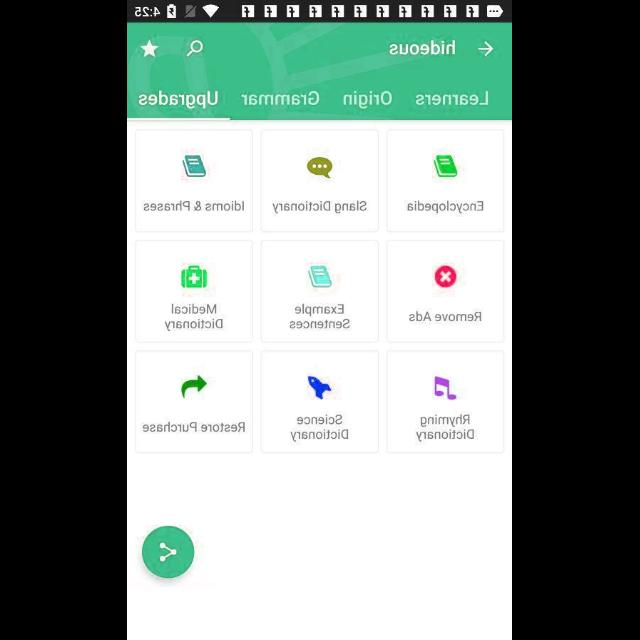button: (142, 525, 195, 579)
icon: (182, 375, 208, 399), (307, 157, 333, 179), (435, 266, 457, 288), (142, 40, 160, 59), (186, 40, 204, 58), (478, 42, 496, 58)
image: (432, 152, 461, 182), (182, 265, 208, 289), (308, 376, 332, 400), (435, 376, 457, 400), (308, 266, 332, 288), (183, 156, 207, 178)
panel: (133, 350, 253, 456), (384, 239, 506, 343), (260, 350, 380, 454), (386, 350, 506, 454), (135, 239, 255, 343), (260, 239, 380, 343), (135, 129, 255, 233), (260, 129, 380, 233), (386, 129, 506, 233)
text: (408, 191, 484, 223), (164, 302, 223, 332), (291, 414, 349, 442), (417, 414, 475, 442), (138, 90, 218, 110), (290, 304, 350, 330), (242, 90, 321, 106), (144, 200, 246, 212), (273, 200, 367, 213), (390, 40, 456, 56), (144, 422, 246, 432), (416, 92, 488, 106), (343, 90, 392, 110), (410, 312, 482, 322)
uppertaskbar: (128, 1, 512, 23)
